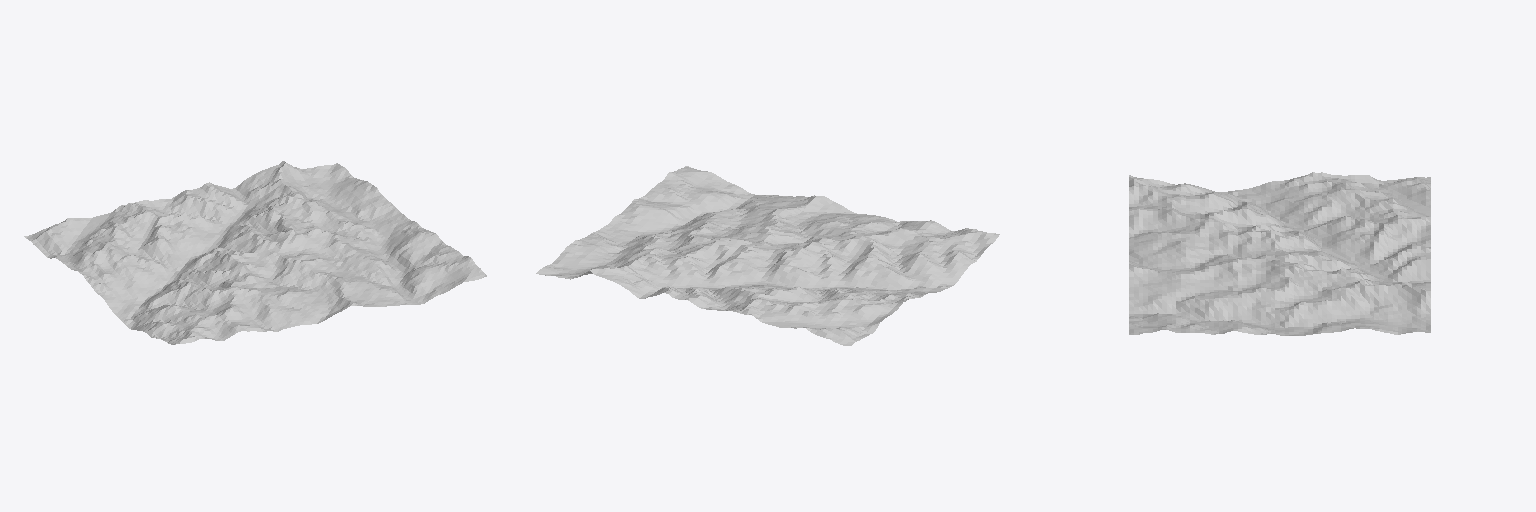
3 views of the same model, side by side, from view 1: azimuth 30°, elevation 25°; view 2: azimuth 150°, elevation 25°; view 3: azimuth 270°, elevation 25° (orthographic).
Parts seen in each view (by area): view 1: EXPORT_GOOGLE_SAT_WM.029; view 2: EXPORT_GOOGLE_SAT_WM.029; view 3: EXPORT_GOOGLE_SAT_WM.029.
Part boxes in pixels (left/top/right/bottom): EXPORT_GOOGLE_SAT_WM.029: left=24, top=161, right=486, bottom=344; EXPORT_GOOGLE_SAT_WM.029: left=536, top=166, right=999, bottom=345; EXPORT_GOOGLE_SAT_WM.029: left=1129, top=172, right=1430, bottom=335.
Bounding box in the file's own units: 36498 × 3394 × 30415.